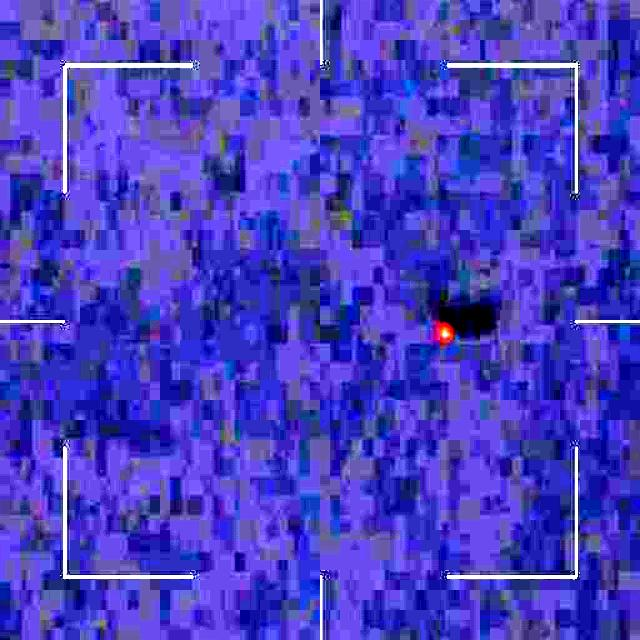bird: (434, 312, 461, 348)
